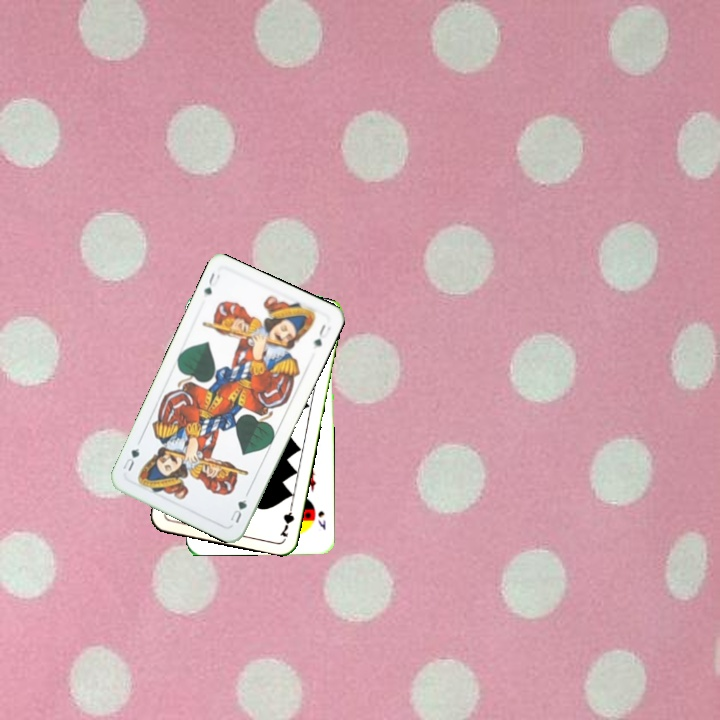G7: (276, 499, 297, 539)
GU: (226, 495, 250, 526), (200, 269, 222, 297)
SK: (314, 507, 328, 532)
